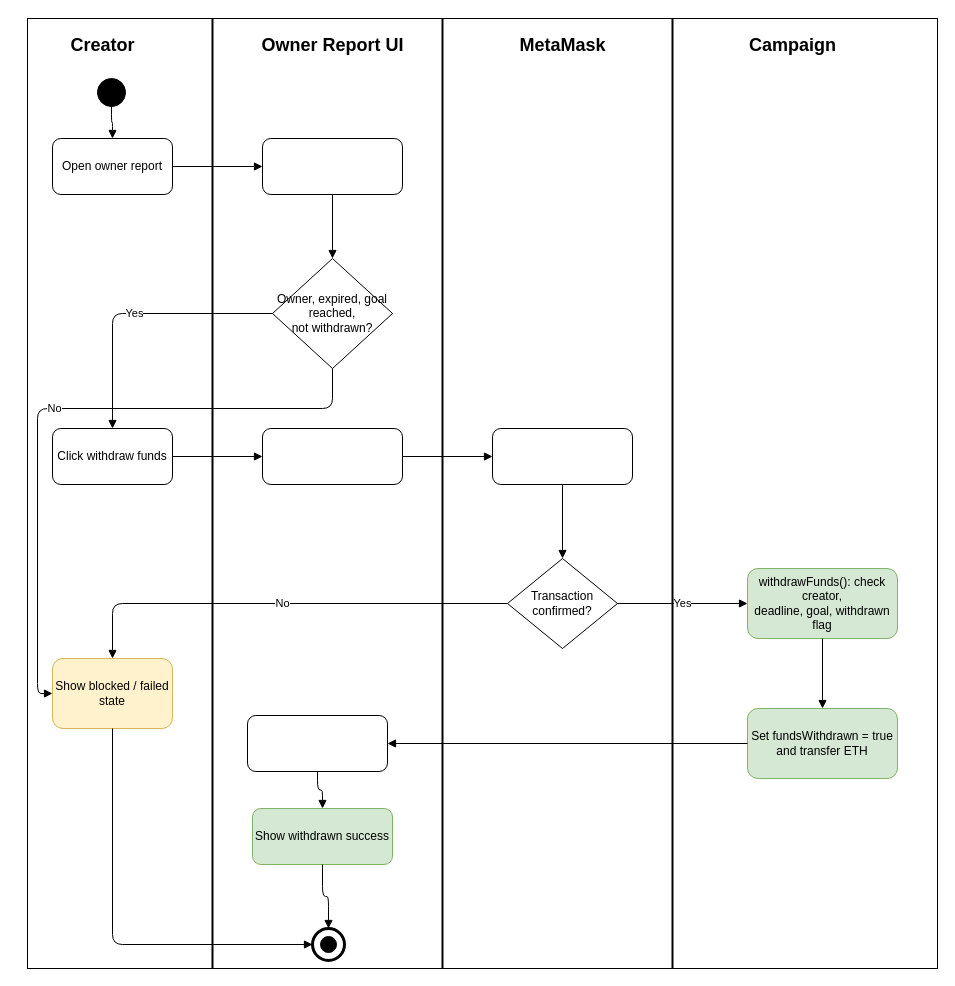
Image size: 955x986. Some labels were removed from this diagram. The centre of each missing label's shape, as x and y in pixels:
"Confirm withdraw tx" goes at (x=562, y=456).
"Load campaign state" goes at (x=332, y=166).
"Refetch info / report" goes at (x=317, y=743).
"Submit withdrawFunds() tx" goes at (x=332, y=456).
